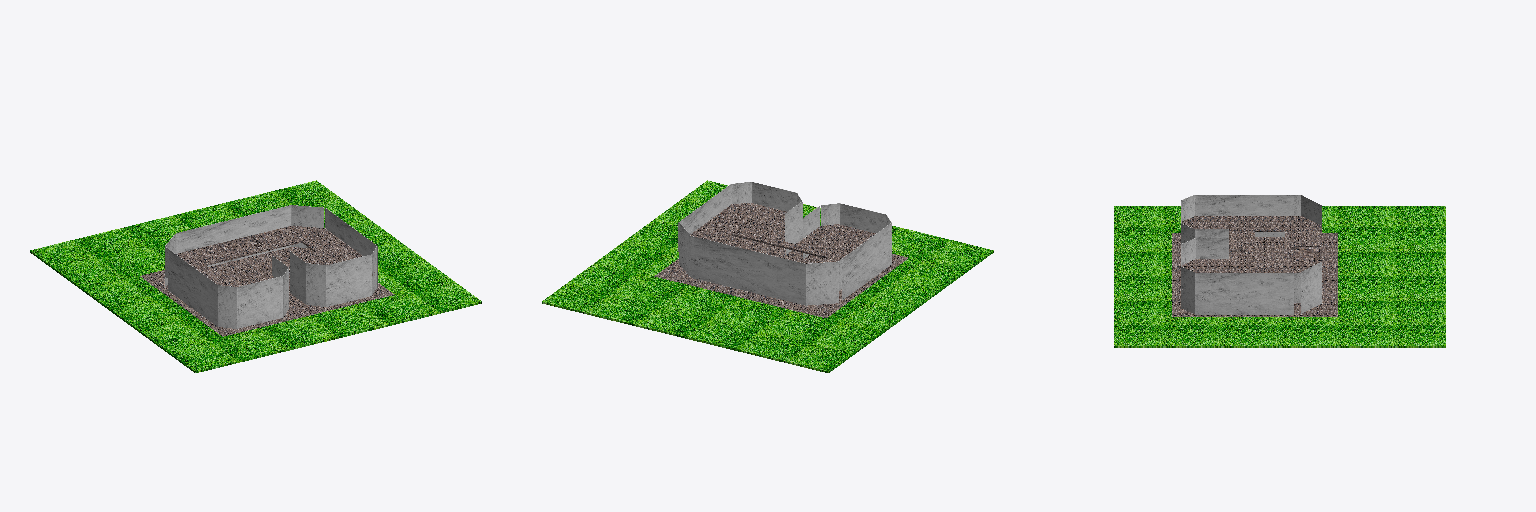
The picture shows the model from 3 angles: view 1: azimuth 30°, elevation 25°; view 2: azimuth 150°, elevation 25°; view 3: azimuth 270°, elevation 25°; orthographic projection.
Parts seen in each view (by area): view 1: Box042, Piso_2do_piso, Box018, Pared_Back, Piso, Pared_MedIzq, Pared_MedDer, Pared_Right, Box012, Pared_Esquina_InfIzq, Pared_Esquina_SupDer, Box013; view 2: Box042, Pared_Back, Piso_2do_piso, Box018, Piso, Box006, Pared_Right, Pared_MedIzq, Pared_MedDer, Box013; view 3: Box042, Piso_2do_piso, Pared_Right, Box018, Piso, Pared_Esquina_SupDer, Box013, Pared_Esquina_InfDer.
Boxes of the visible parts, x1,y1,x2,y2 form: Box042: [30, 180, 481, 372]; Piso_2do_piso: [176, 226, 374, 286]; Box018: [140, 247, 394, 336]; Pared_Back: [176, 205, 290, 266]; Piso: [168, 249, 217, 326]; Pared_MedIzq: [237, 276, 282, 328]; Pared_MedDer: [326, 254, 371, 306]; Pared_Right: [328, 210, 377, 287]; Box012: [306, 263, 325, 306]; Pared_Esquina_InfIzq: [218, 285, 236, 328]; Pared_Esquina_SupDer: [291, 205, 323, 247]; Box013: [289, 251, 305, 303]; Box042: [542, 180, 993, 372]; Pared_Back: [691, 236, 805, 305]; Piso_2do_piso: [690, 203, 875, 261]; Box018: [654, 236, 907, 317]; Piso: [842, 223, 891, 299]; Box006: [806, 261, 838, 305]; Pared_Right: [682, 184, 731, 233]; Pared_MedIzq: [840, 203, 885, 232]; Pared_MedDer: [752, 182, 797, 211]; Box013: [785, 202, 801, 254]; Box042: [1114, 206, 1445, 347]; Piso_2do_piso: [1182, 216, 1321, 289]; Pared_Right: [1195, 273, 1293, 314]; Box018: [1172, 233, 1337, 316]; Piso: [1195, 195, 1293, 236]; Pared_Esquina_SupDer: [1301, 262, 1321, 313]; Box013: [1196, 238, 1228, 258]; Pared_Esquina_InfDer: [1181, 267, 1194, 313].
Size of the model in its own units: 500 by 72.8 by 500.
5 materials, 3 textured.